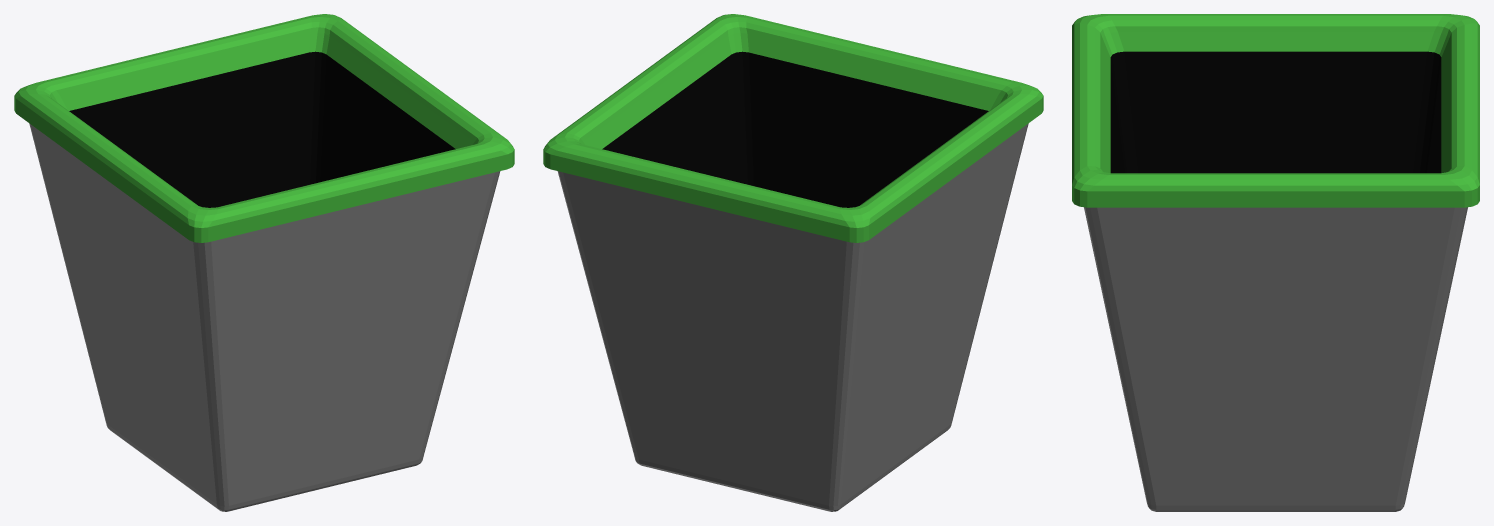
The model's file is BoteV2.fbx.
The picture shows the model from 3 angles, left to right: view 1: azimuth 30°, elevation 25°; view 2: azimuth 150°, elevation 25°; view 3: azimuth 270°, elevation 25°; orthographic projection. The views are drawn at different scales.
Visible parts, largest first — view 1: Cubo; view 2: Cubo; view 3: Cubo.
Boxes of the visible parts, x1=… form: Cubo: x1=14, y1=14, x2=514, y2=511; Cubo: x1=543, y1=14, x2=1043, y2=511; Cubo: x1=1072, y1=14, x2=1479, y2=511.
Bounding box in the file's own units: 0.7087 × 0.7 × 0.7087.
